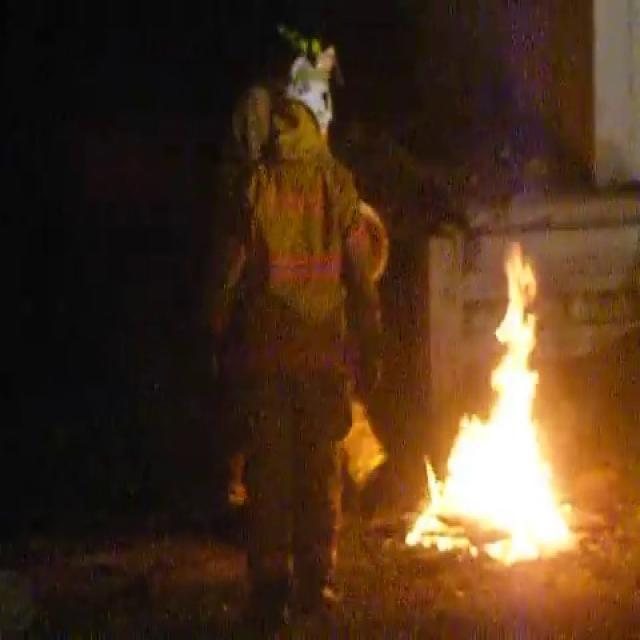Fire: (405, 236, 580, 568)
